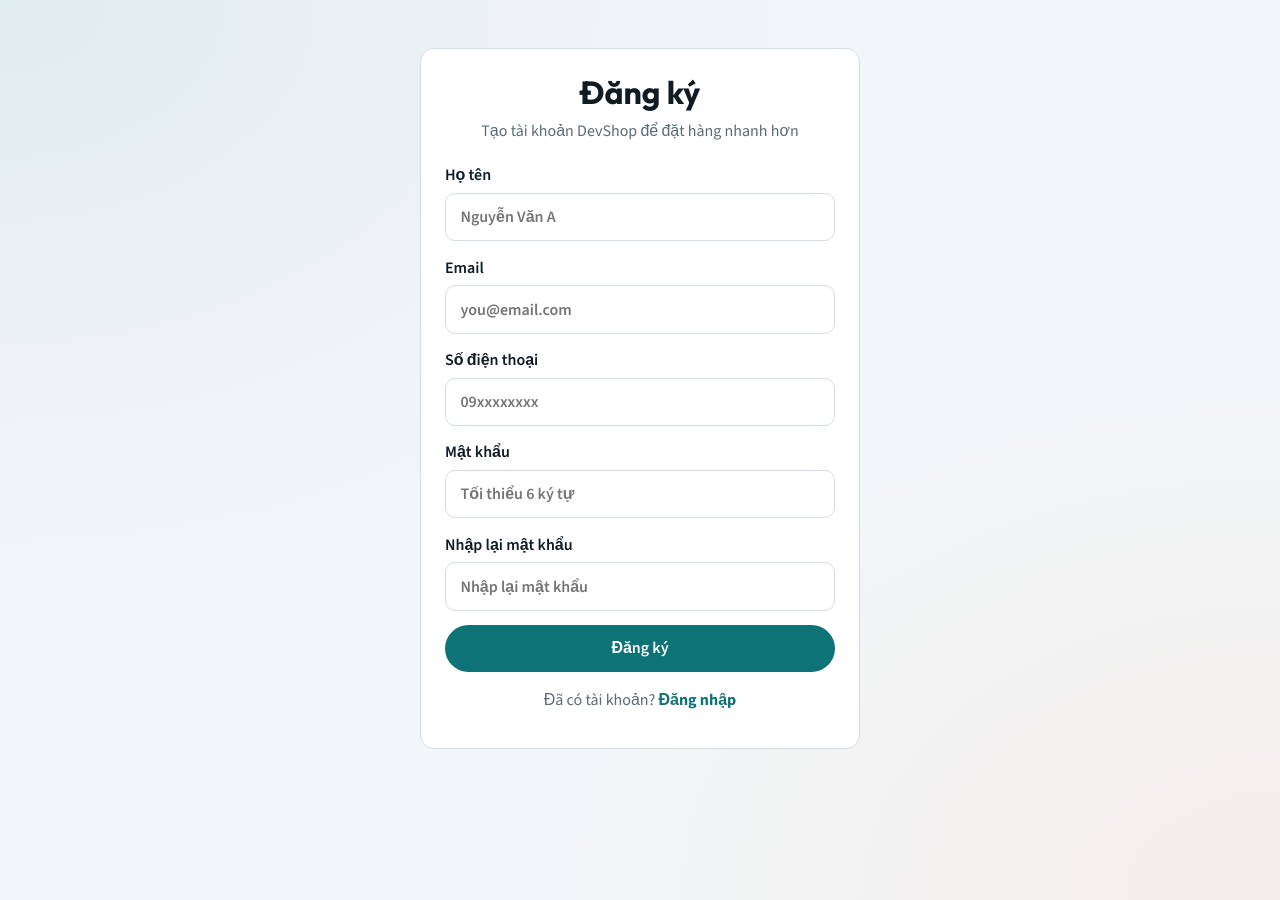
Scenario: Trang Register › mật khẩu ngắn hơn 6 ký tự: không gọi API
The width and height of the screenshot is (1280, 900).
Type "A" into the field labelled "Họ tên".
click(640, 217); type("A")  # box [445,193,835,241]
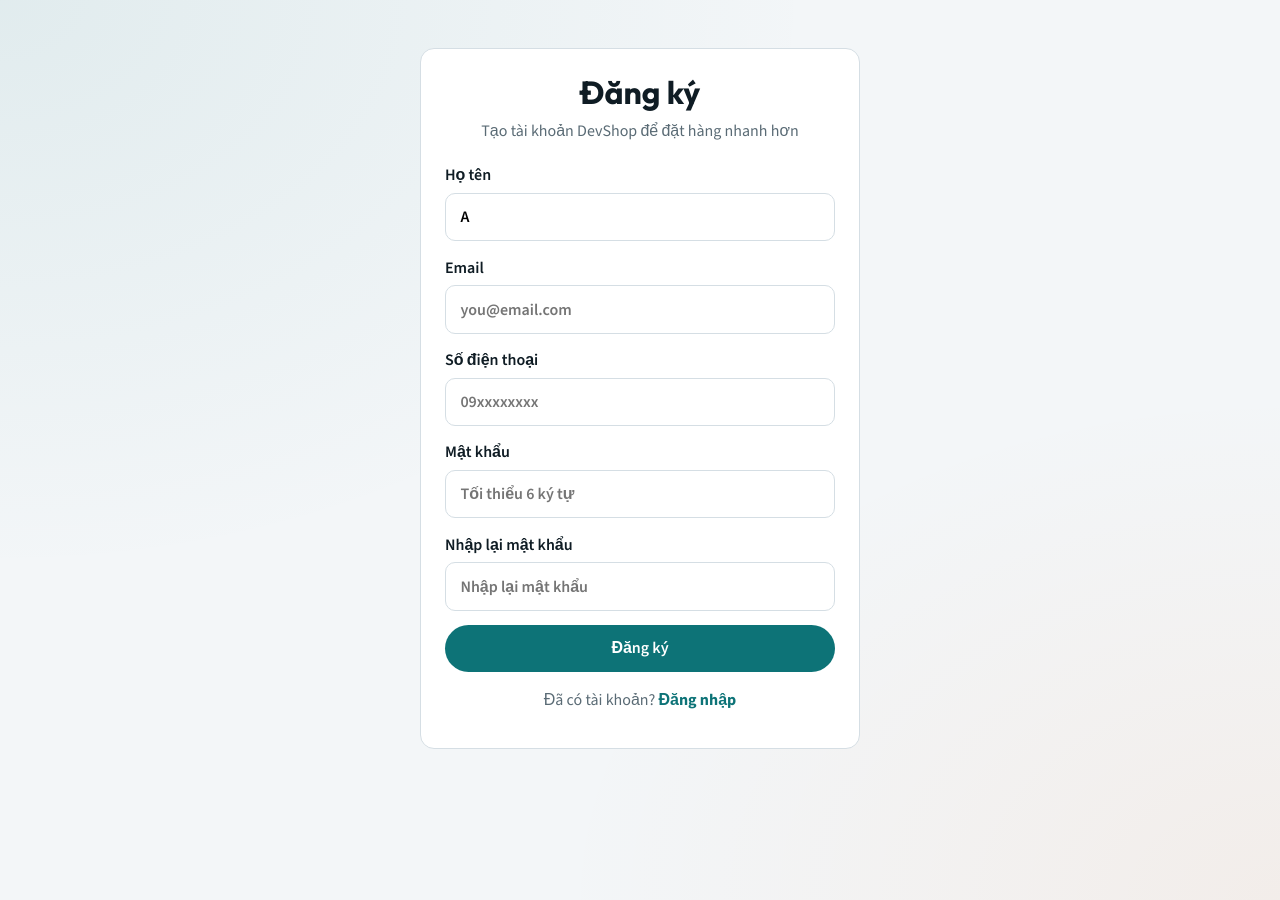
Type "a@devshop.com" into the field labelled "Email".
click(640, 310); type("a@devshop.com")  # box [445,285,835,334]
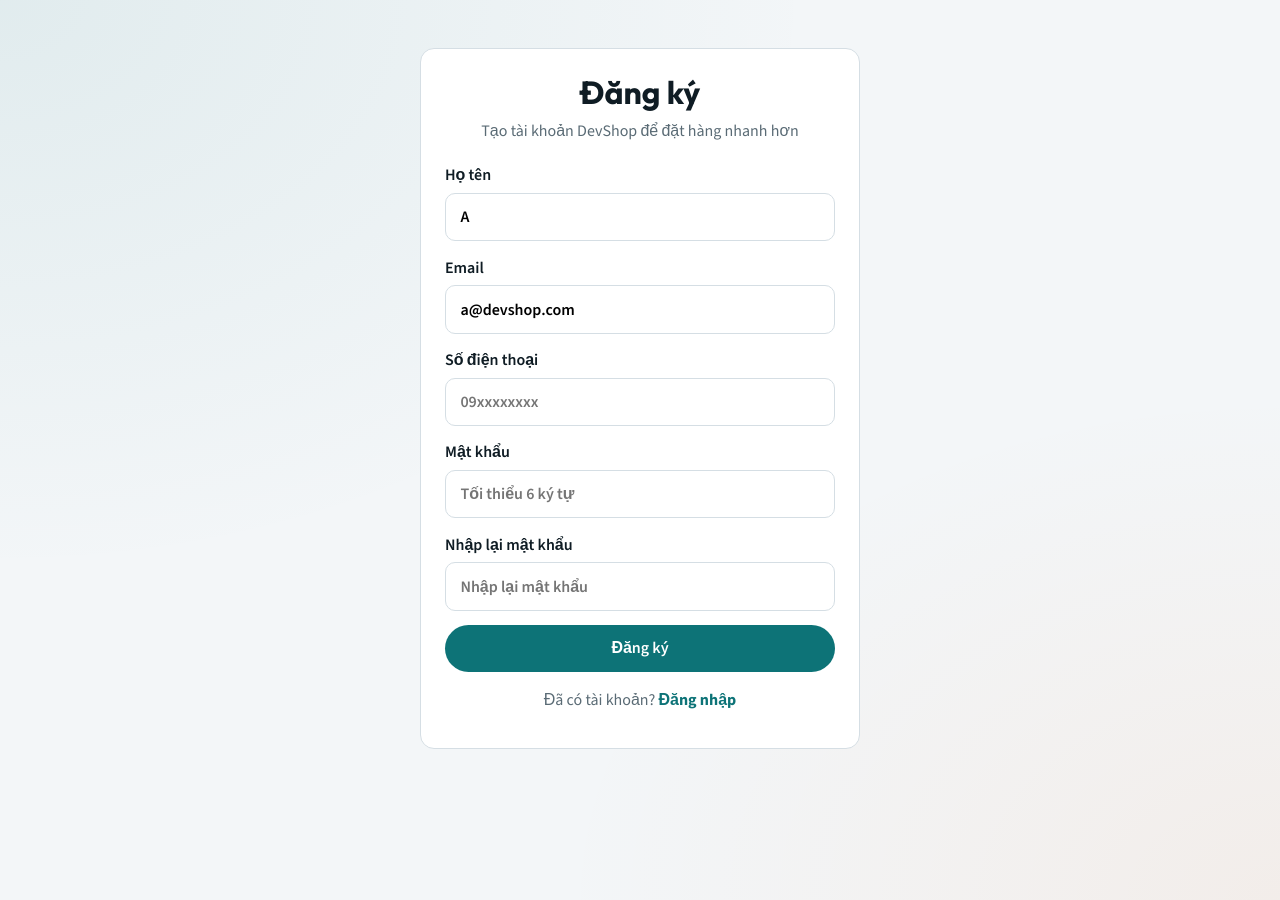
Type "09" into the field labelled "Số điện thoại".
click(640, 402); type("09")  # box [445,378,835,426]
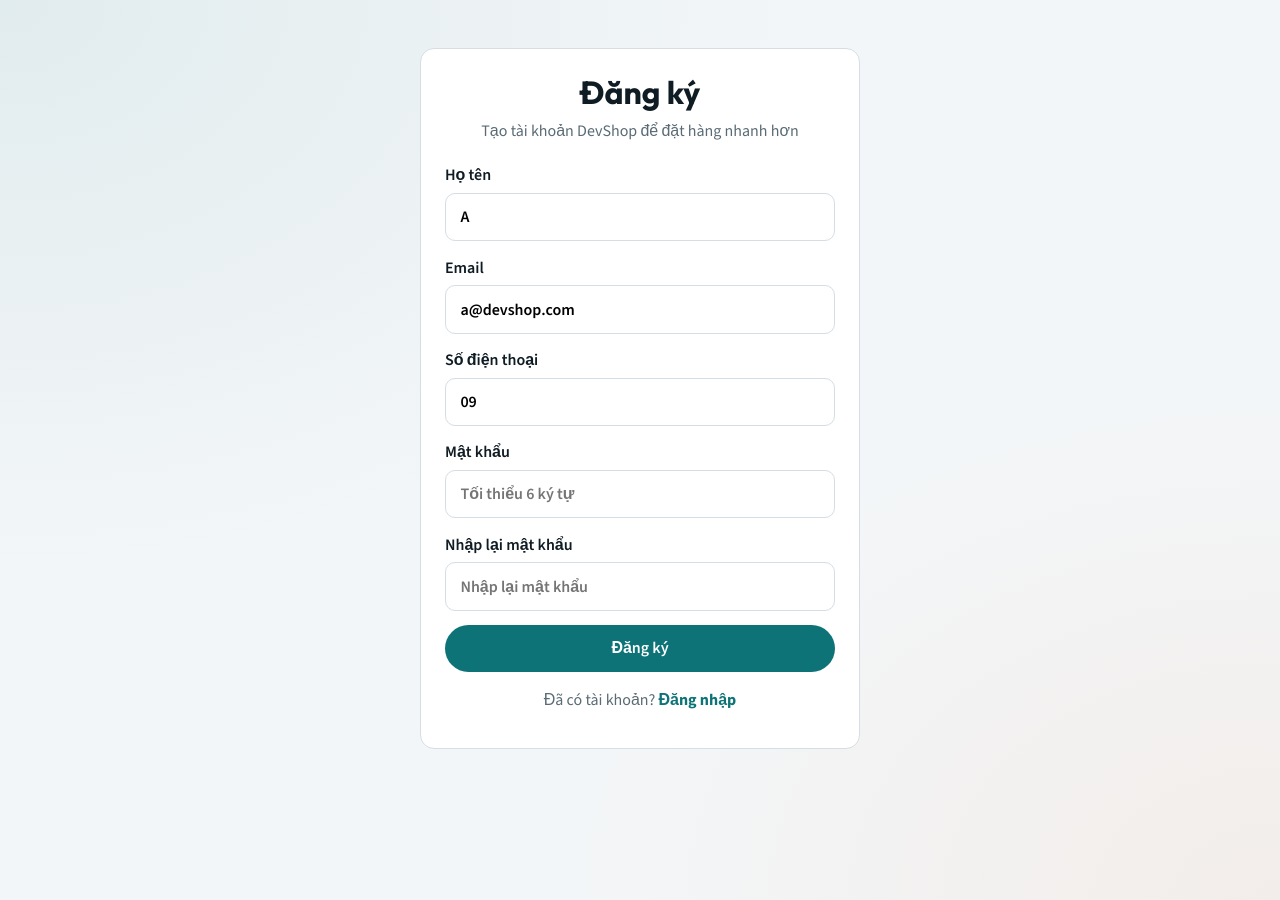
Type "12345" into the password field labelled "Mật khẩu".
click(640, 494); type("12345")  # box [445,470,835,518]
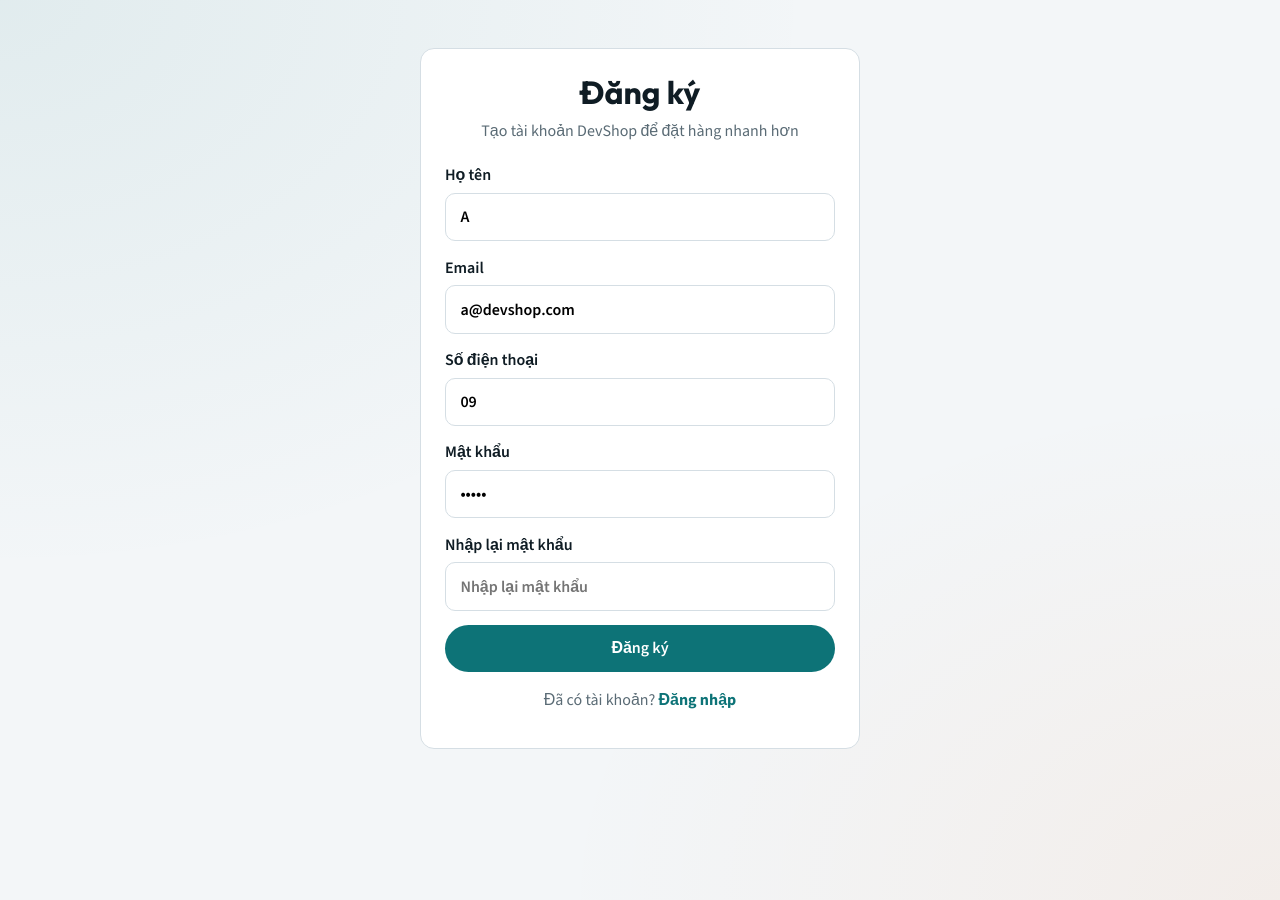
Type "12345" into the password field labelled "Nhập lại mật khẩu".
click(640, 587); type("12345")  # box [445,562,835,611]
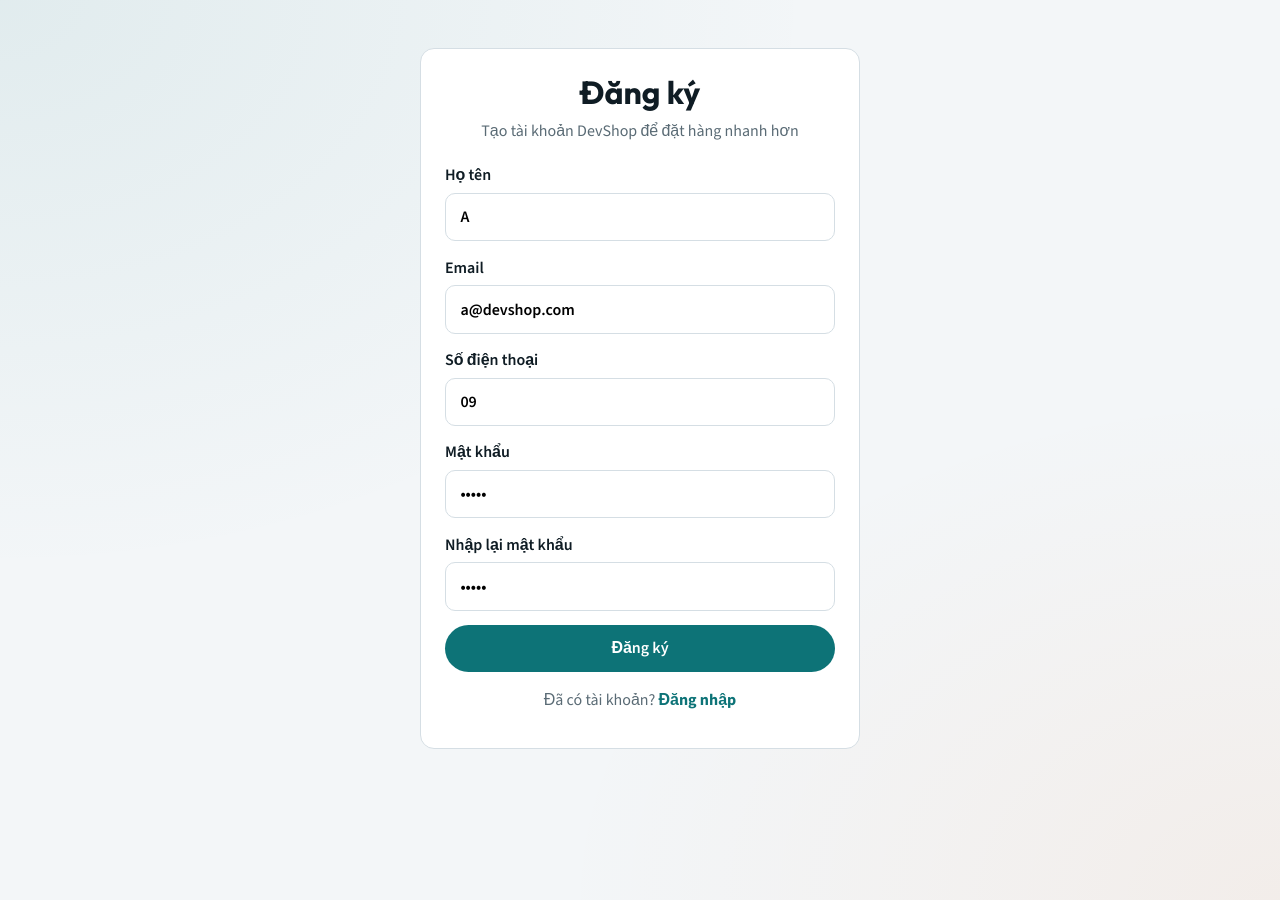
Click the button "Đăng ký".
click(640, 648)  # box [445,625,835,672]
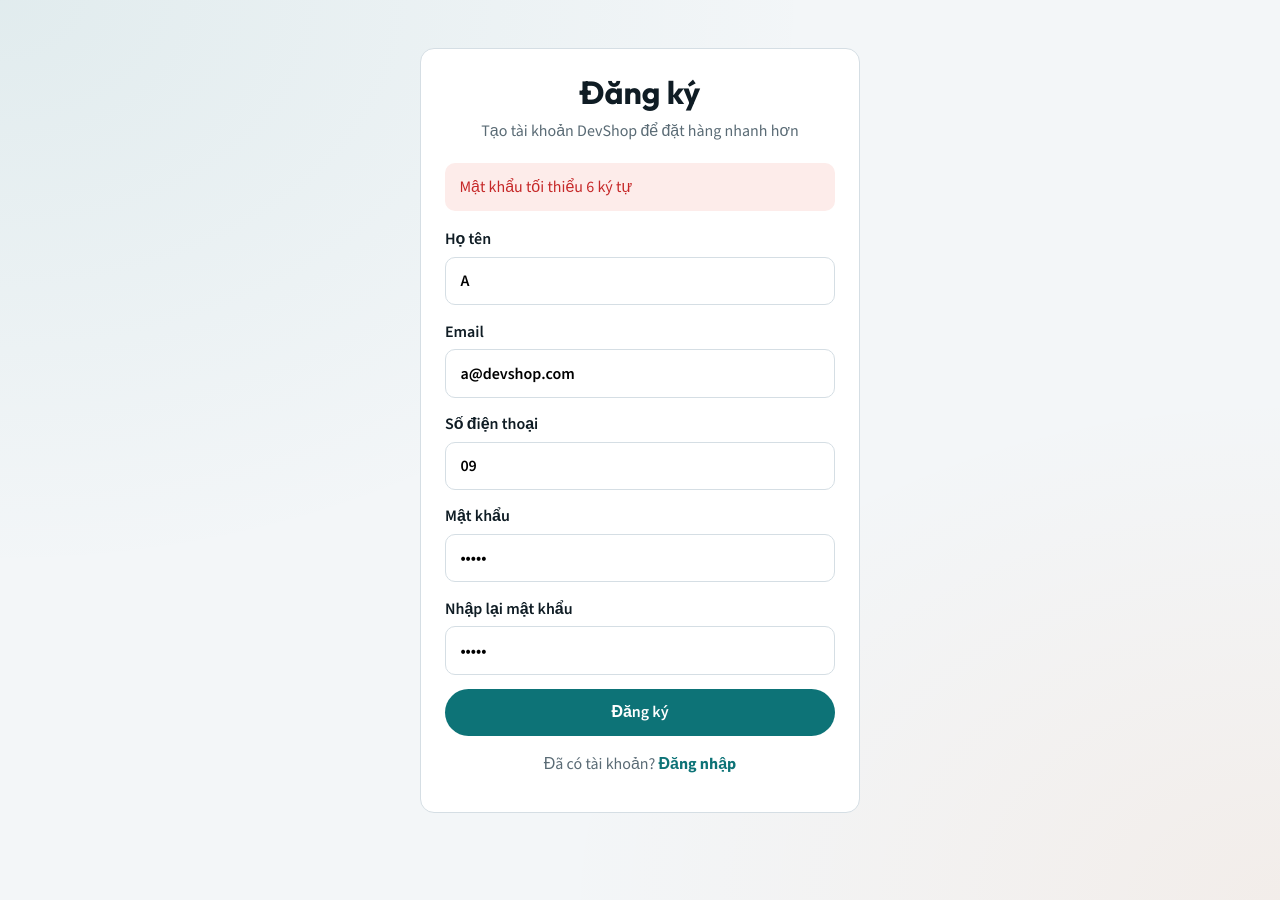
Check: the text "Mật khẩu tối thiểu 6 ký tự" is shown, box [445,163,835,211]
